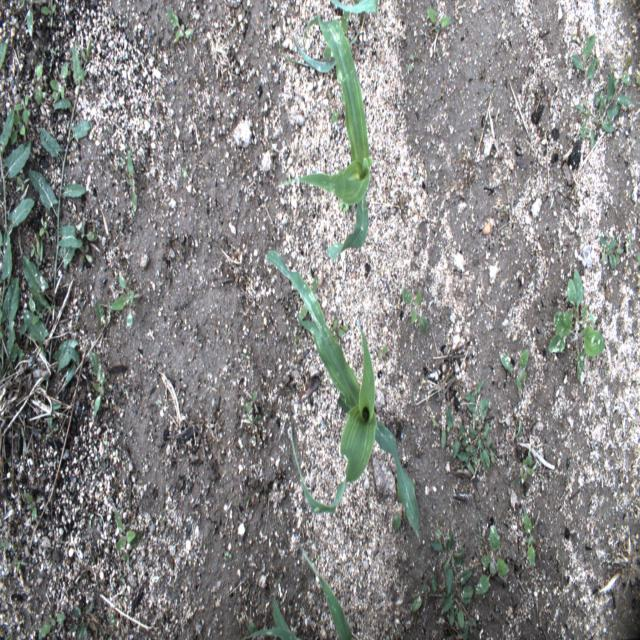crop: (266, 250, 420, 542), (278, 13, 372, 261), (280, 0, 378, 75), (299, 546, 352, 639), (240, 578, 302, 639)
weed: (23, 36, 92, 413), (0, 108, 34, 376), (411, 514, 478, 640), (571, 33, 636, 148), (547, 269, 606, 387), (432, 378, 496, 476), (474, 523, 507, 594), (322, 8, 352, 61), (498, 348, 529, 399), (110, 270, 134, 328), (114, 508, 144, 551), (401, 286, 427, 334), (18, 0, 46, 37), (167, 6, 194, 42), (70, 598, 93, 640), (598, 233, 624, 270), (510, 449, 534, 488), (299, 274, 318, 320), (522, 511, 536, 570), (49, 61, 68, 101), (38, 613, 66, 639), (426, 7, 453, 33), (10, 107, 28, 145), (331, 86, 348, 125), (126, 151, 137, 210), (93, 363, 105, 417), (73, 219, 97, 242), (331, 316, 349, 345), (46, 396, 62, 426), (94, 299, 110, 328), (24, 492, 38, 522), (40, 1, 56, 27), (14, 94, 32, 117), (244, 388, 258, 416), (29, 297, 43, 324), (62, 359, 76, 386), (79, 242, 93, 264), (35, 230, 43, 266), (36, 60, 42, 104), (39, 217, 50, 240), (15, 176, 30, 192), (89, 351, 98, 376), (244, 412, 261, 424), (18, 320, 28, 340), (13, 558, 27, 572), (391, 513, 401, 531), (248, 618, 258, 636), (0, 40, 6, 69), (21, 427, 27, 454), (47, 426, 59, 439), (515, 417, 522, 438), (407, 52, 414, 72), (0, 538, 10, 550), (339, 200, 349, 212), (123, 552, 129, 566), (381, 345, 387, 357), (628, 232, 632, 250), (30, 242, 34, 258)
